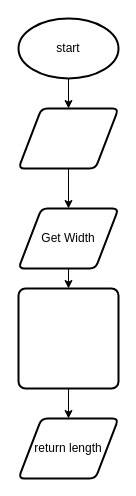
This 136x496 diagram has some shape labels left out. Here are the shapes that lost their labels. From the top down, the box of each, then its label:
(17, 107, 119, 169): Get Height
(17, 287, 119, 389): length = boardSize / (height * width)
